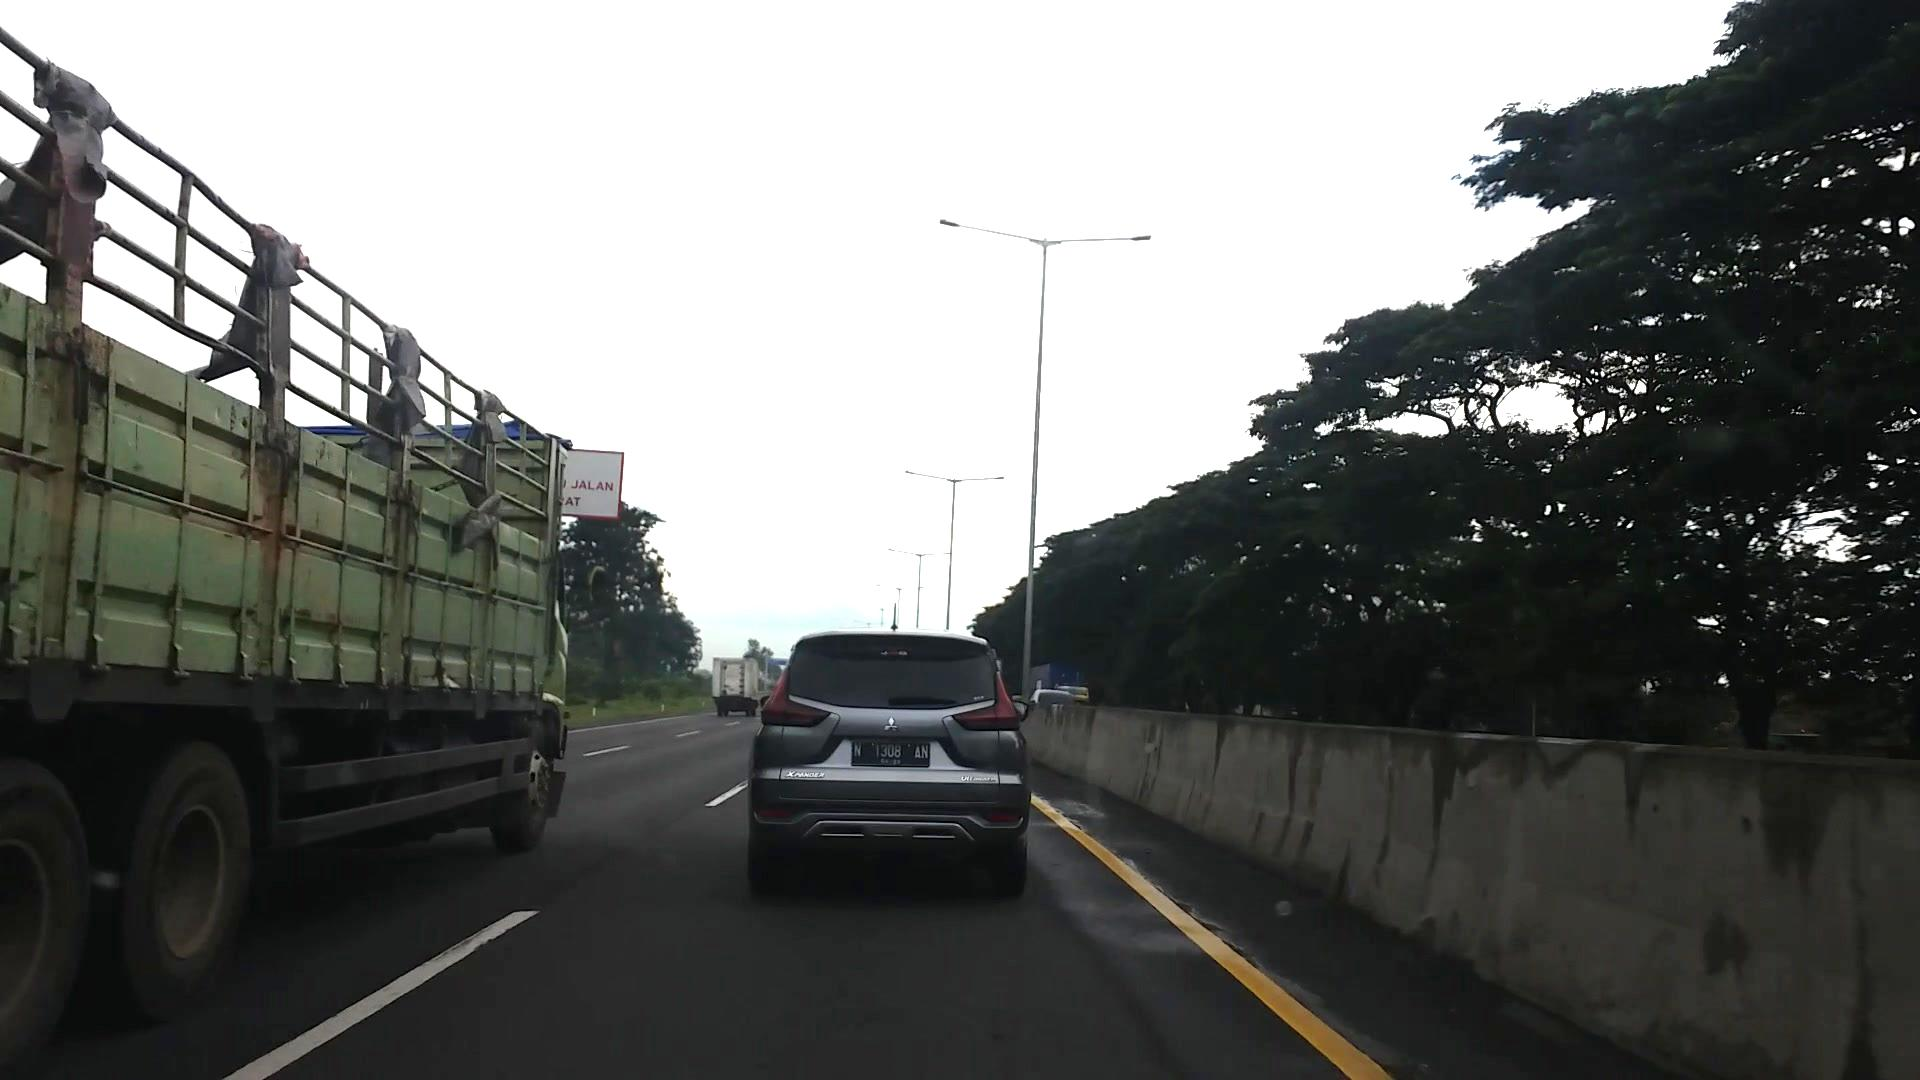plate_positive: (851, 738, 930, 769)
